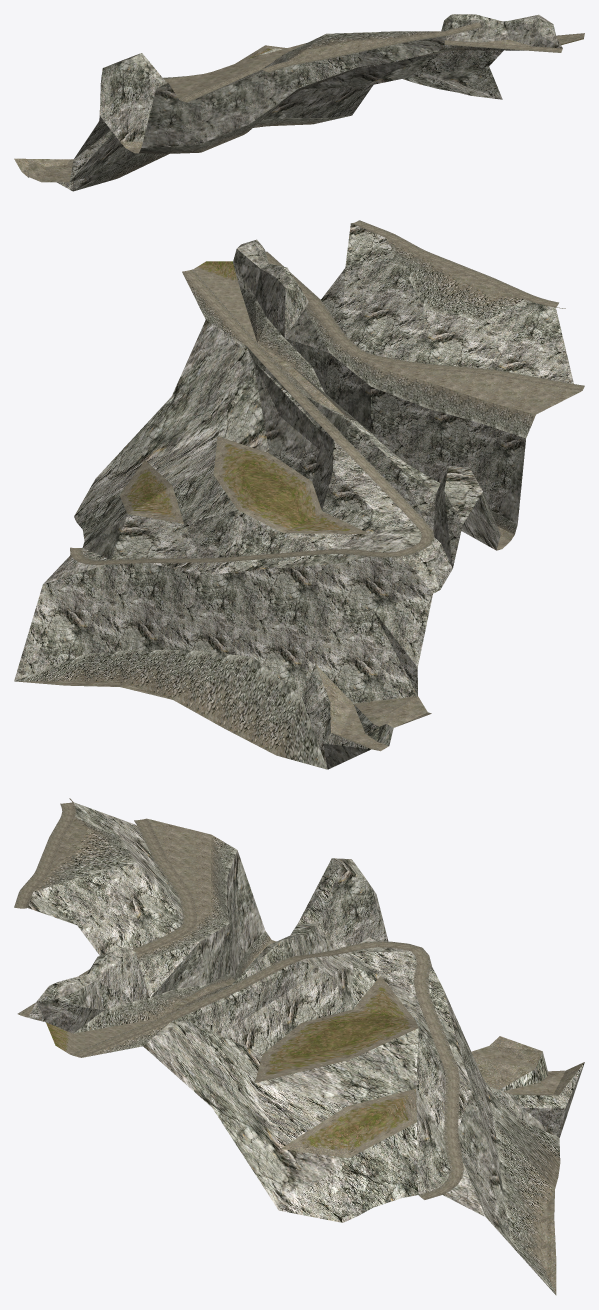
Rendered from cs_landbit_13.obj.
3 views of the same model, one above another, from view 1: azimuth 30°, elevation 25°; view 2: azimuth 150°, elevation 25°; view 3: azimuth 270°, elevation 25° (orthographic). The views are drawn at different scales.
Visible parts, largest first — view 1: cs_landbit_13; view 2: cs_landbit_13; view 3: cs_landbit_13.
Boxes of the visible parts, x1=… form: cs_landbit_13: x1=14, y1=14, x2=584, y2=191; cs_landbit_13: x1=14, y1=220, x2=584, y2=769; cs_landbit_13: x1=14, y1=798, x2=584, y2=1295.
Size of the model in its own units: 254 by 174 by 260.
